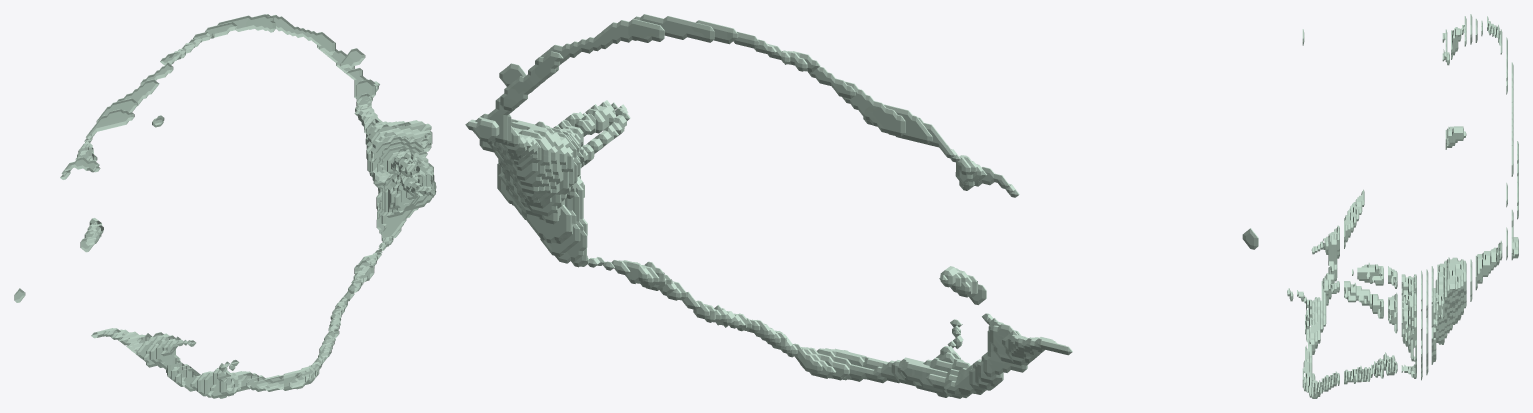
The model's file is SVV_RMEL.gltf.
3 views of the same model, side by side, from view 1: azimuth 30°, elevation 25°; view 2: azimuth 150°, elevation 25°; view 3: azimuth 270°, elevation 25° (orthographic). The views are drawn at different scales.
Visible parts, largest first — view 1: RMEL; view 2: RMEL; view 3: RMEL.
Boxes of the visible parts, x1=… form: RMEL: x1=14, y1=14, x2=436, y2=398; RMEL: x1=465, y1=14, x2=1258, y2=398; RMEL: x1=1287, y1=14, x2=1518, y2=398.
Bounding box in the file's own units: 90670 × 54792 × 32379.
